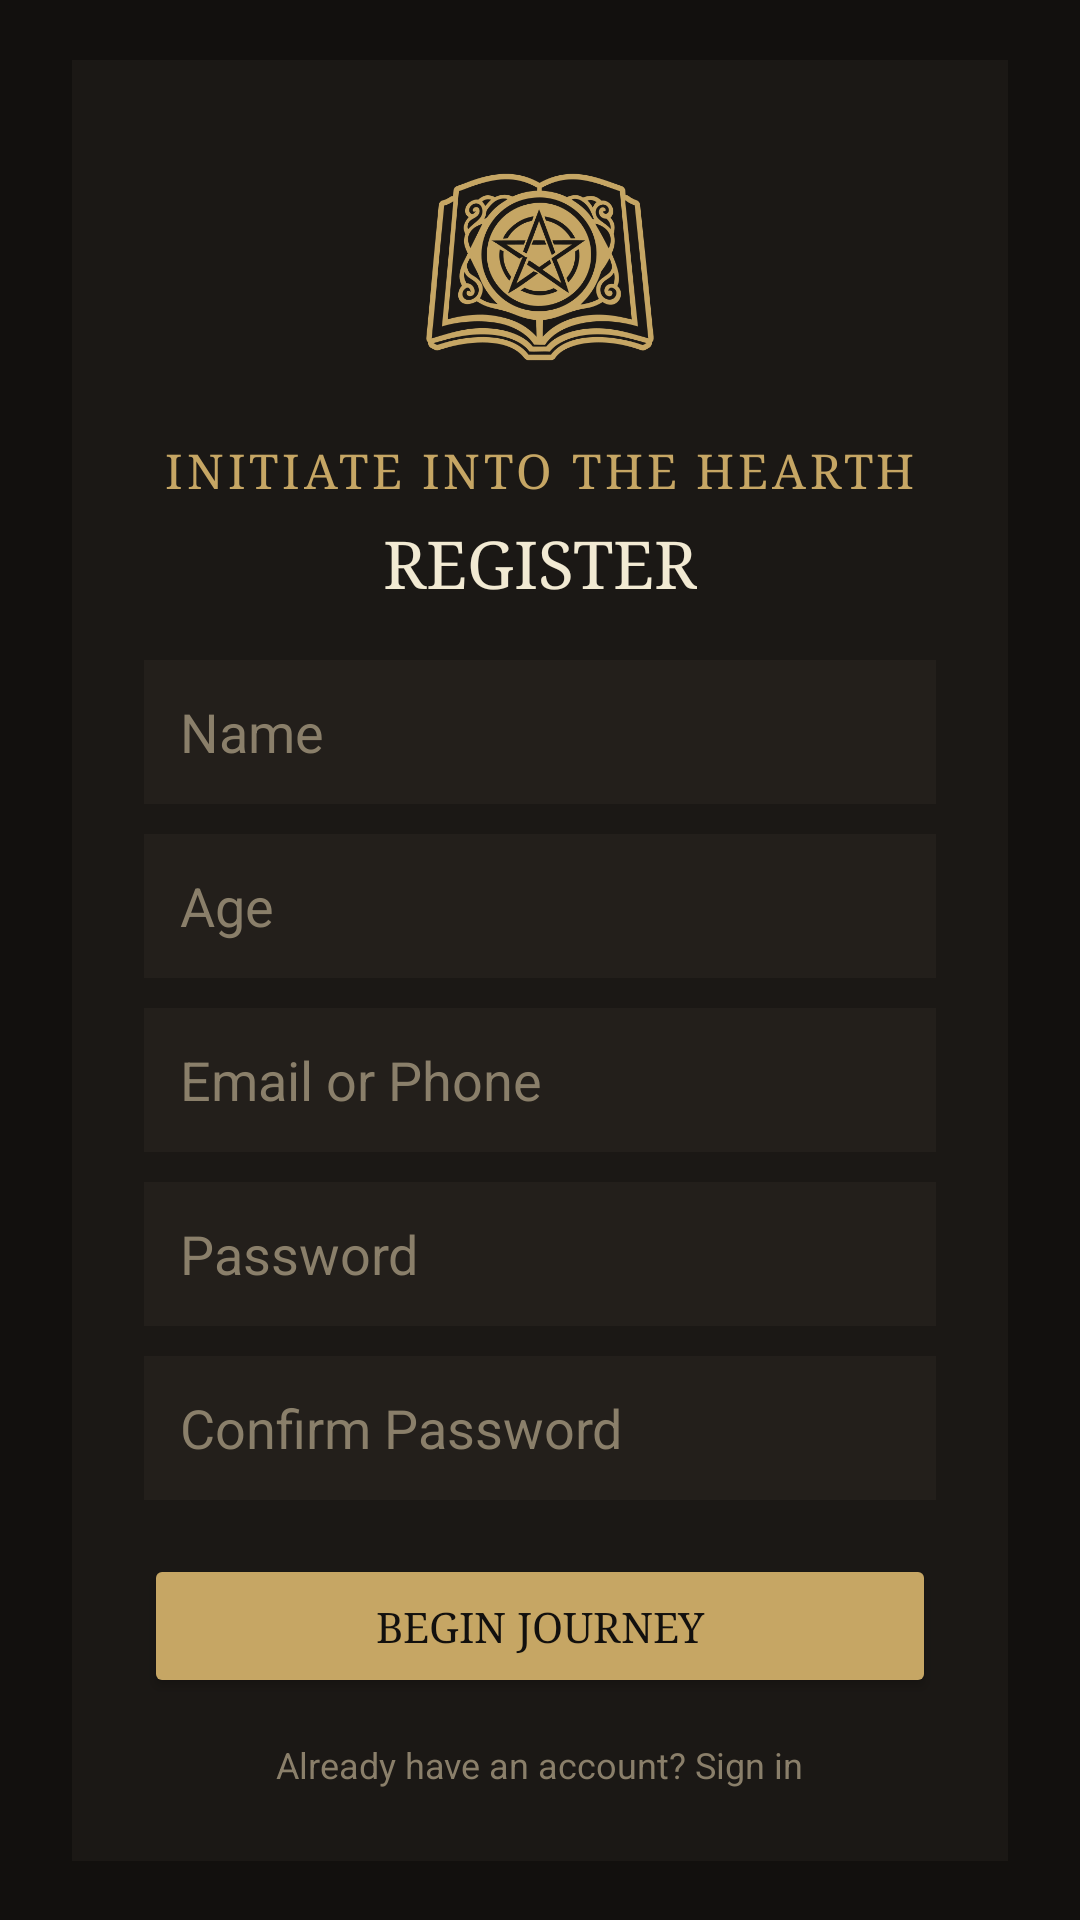

Locate icon controls on the screen. Image size 1080px×1920px, boxes as detection(x1, y1, x2, y2).
grimoire: detection(426, 174, 654, 360)
